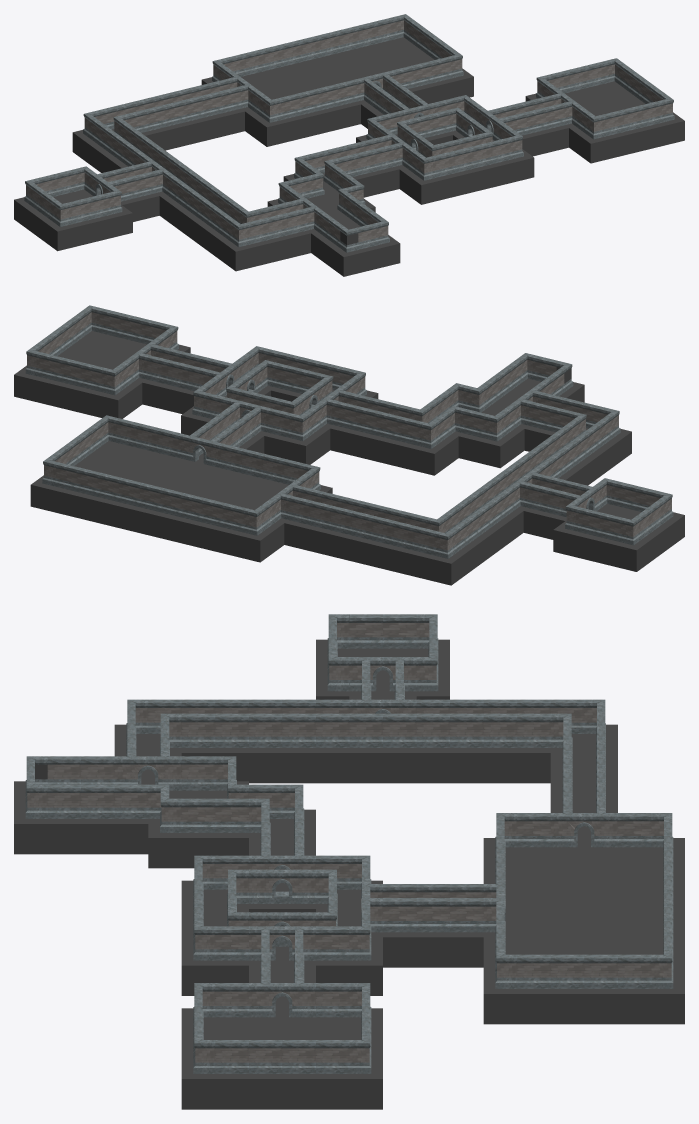
The model's file is dungeon-low-poly-2.gltf.
The picture shows the model from 3 angles, top to bottom: view 1: azimuth 30°, elevation 25°; view 2: azimuth 150°, elevation 25°; view 3: azimuth 270°, elevation 25°; orthographic projection. The views are drawn at different scales.
Visible parts, largest first — view 1: mergedBlocks; view 2: mergedBlocks; view 3: mergedBlocks.
Part boxes in pixels (x1,y1,x2,y2): mergedBlocks: (14,14,684,276); mergedBlocks: (14,305,684,585); mergedBlocks: (14,614,684,1109).
Size of the model in its own units: 310 by 20 by 200.
Materials: 3 (2 with a texture image).
